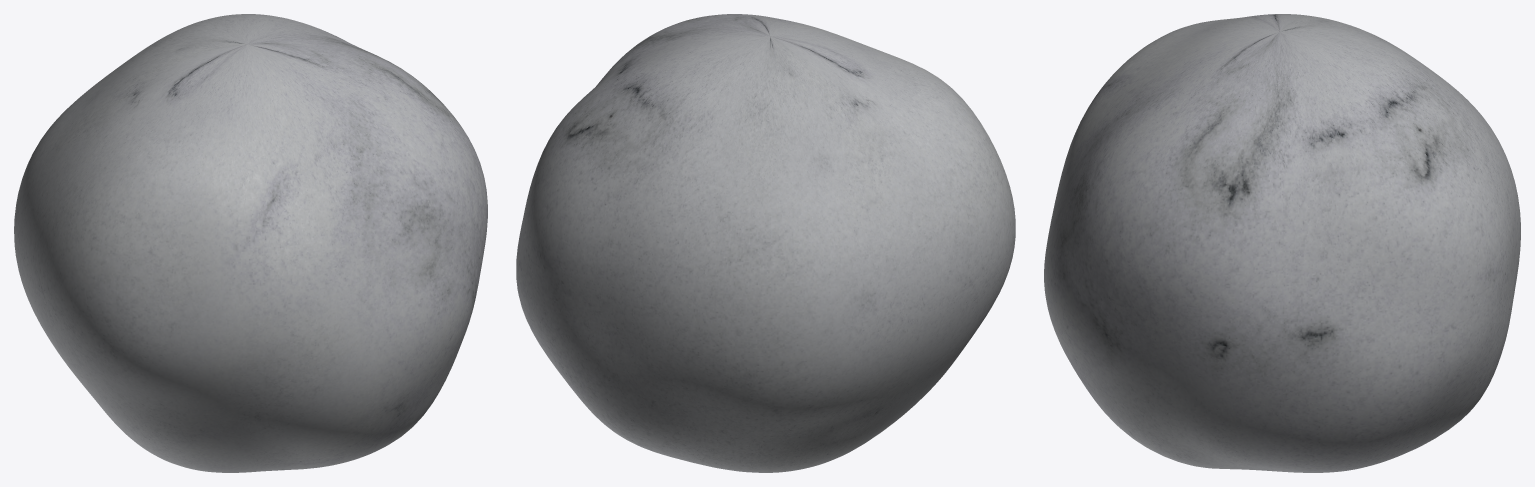
The model's file is Snowball.fbx.
3 renders of one model, left to right at view 1: azimuth 30°, elevation 25°; view 2: azimuth 150°, elevation 25°; view 3: azimuth 270°, elevation 25°, orthographic. The views are drawn at different scales.
Parts seen in each view (by area): view 1: Sphere; view 2: Sphere; view 3: Sphere.
Part boxes in pixels (x1=…): Sphere: x1=14, y1=14, x2=487, y2=472; Sphere: x1=516, y1=14, x2=1015, y2=472; Sphere: x1=1044, y1=14, x2=1520, y2=472.
Bounding box in the file's own units: 229 × 216 × 223.
Materials: 1 (1 with a texture image).
